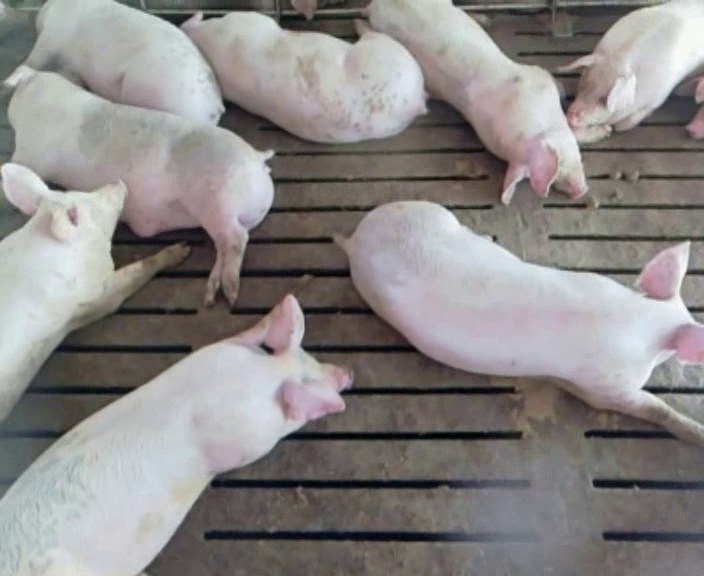pig: (0, 295, 350, 573), (336, 202, 703, 445), (3, 65, 272, 303), (0, 163, 188, 421), (371, 2, 611, 203), (181, 12, 426, 142), (562, 2, 703, 130)
